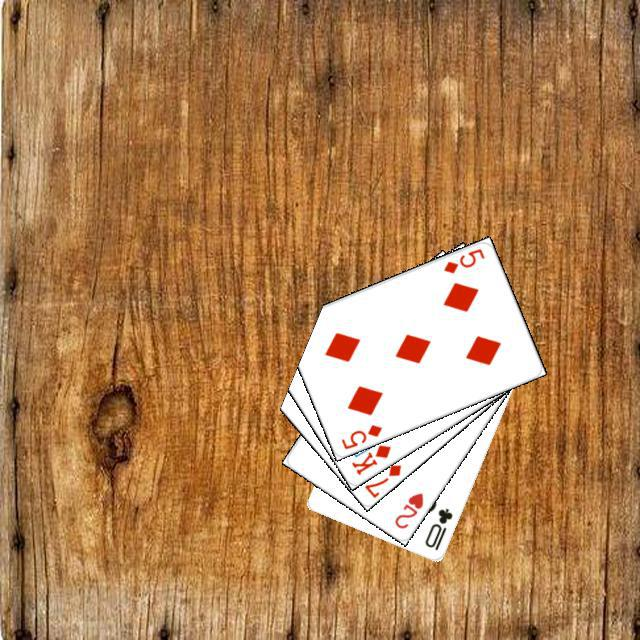10c: (420, 503, 454, 552)
2h: (389, 488, 425, 530)
5d: (336, 419, 384, 451), (438, 243, 486, 275)
7d: (360, 459, 403, 499)
Kd: (346, 440, 393, 477)
